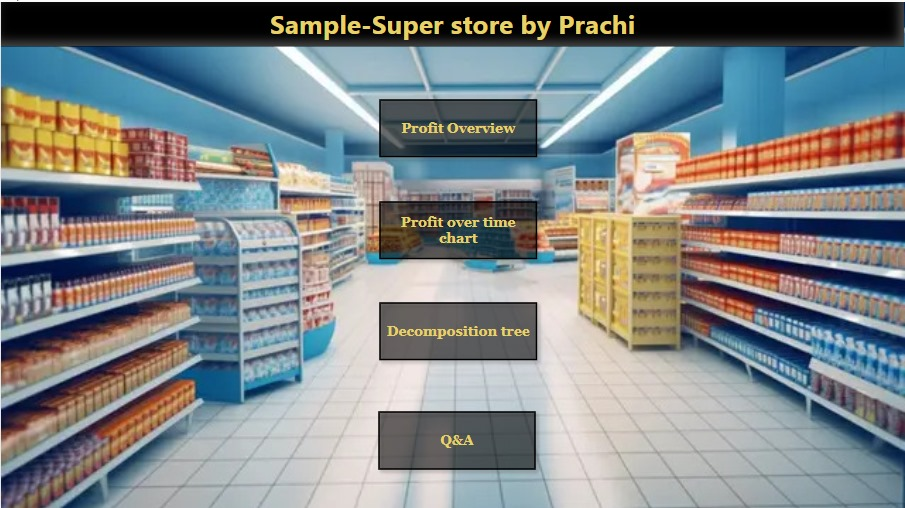

The dashboard page shown, as its layout file describes it:
{"tool":"powerbi","page":{"name":"Cover Page","canvas":[1280,720],"ordinal":0},"visuals":[{"type":"textbox","box":[0,0,1280,63.3],"z":0},{"type":"actionButton","box":[527.7,129,241.7,100],"z":1000},{"type":"actionButton","box":[527.7,274,241.7,100],"z":2000},{"type":"actionButton","box":[527.7,417.3,241.7,100],"z":3000},{"type":"actionButton","box":[526.5,571.8,240.9,100.6],"z":5000}]}

Visuals, with their boxes in screenshot pixels (x1, y1, x2, y2), scaled from the page's 1280x720 canvas onto the 905x508 screenshot:
textbox: {"left": 0, "top": 0, "right": 904, "bottom": 45}
actionButton: {"left": 373, "top": 91, "right": 544, "bottom": 162}
actionButton: {"left": 373, "top": 193, "right": 544, "bottom": 264}
actionButton: {"left": 373, "top": 294, "right": 544, "bottom": 365}
actionButton: {"left": 372, "top": 403, "right": 543, "bottom": 474}
